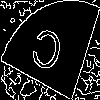C: (25, 25, 66, 83)
